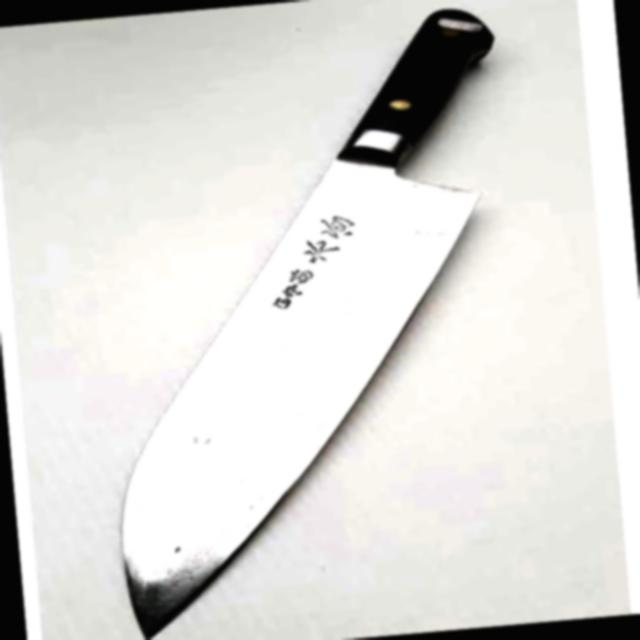knife: (69, 1, 546, 640)
